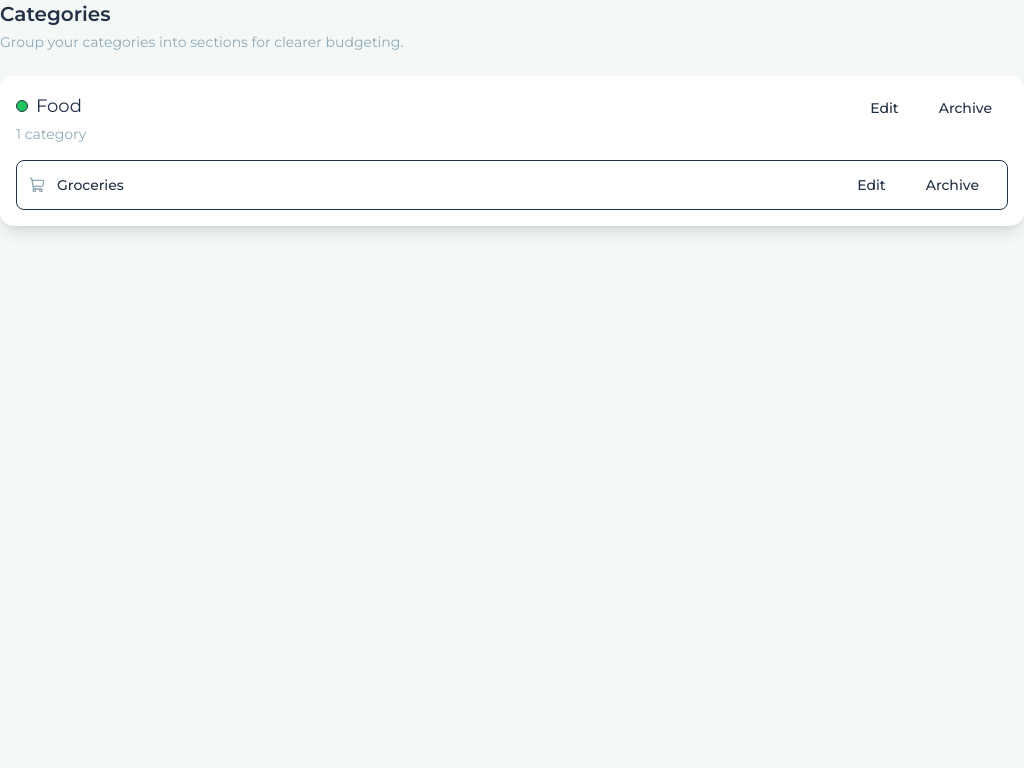
it: CategoriesPage › shows an error when archiving a category fails
Step 1. Click the button with aria-label "Archive category Groceries" → (952, 185), box [910,169,995,201]
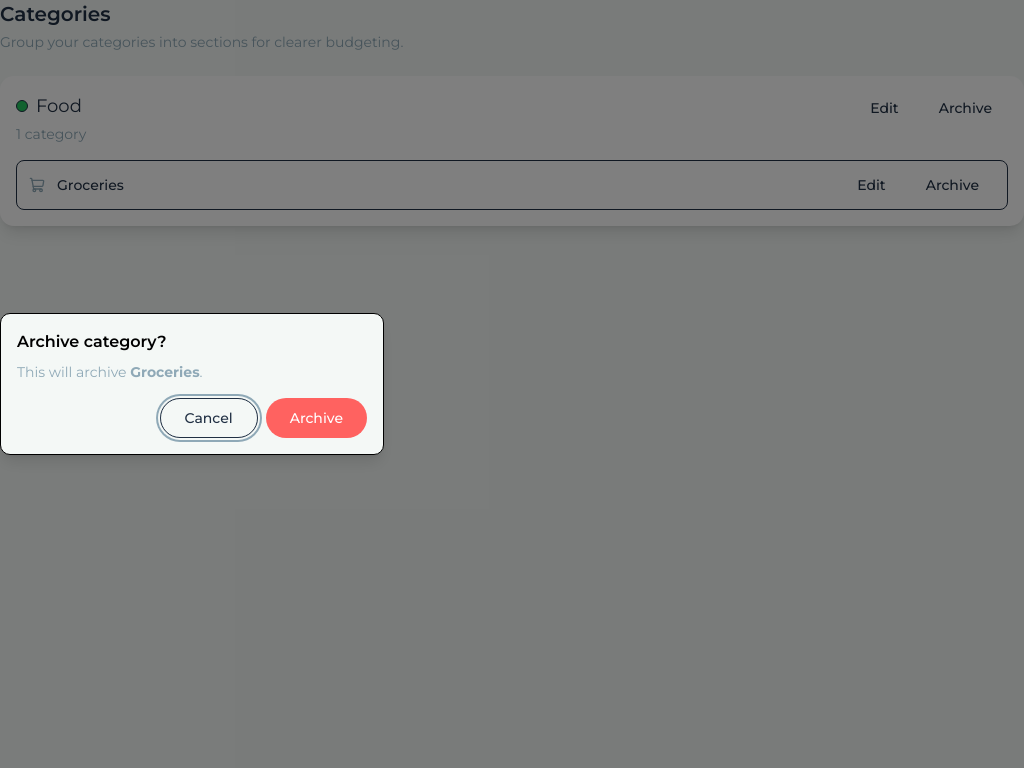
Step 2. Click the button "Archive" → (316, 418), box [266,398,367,438]
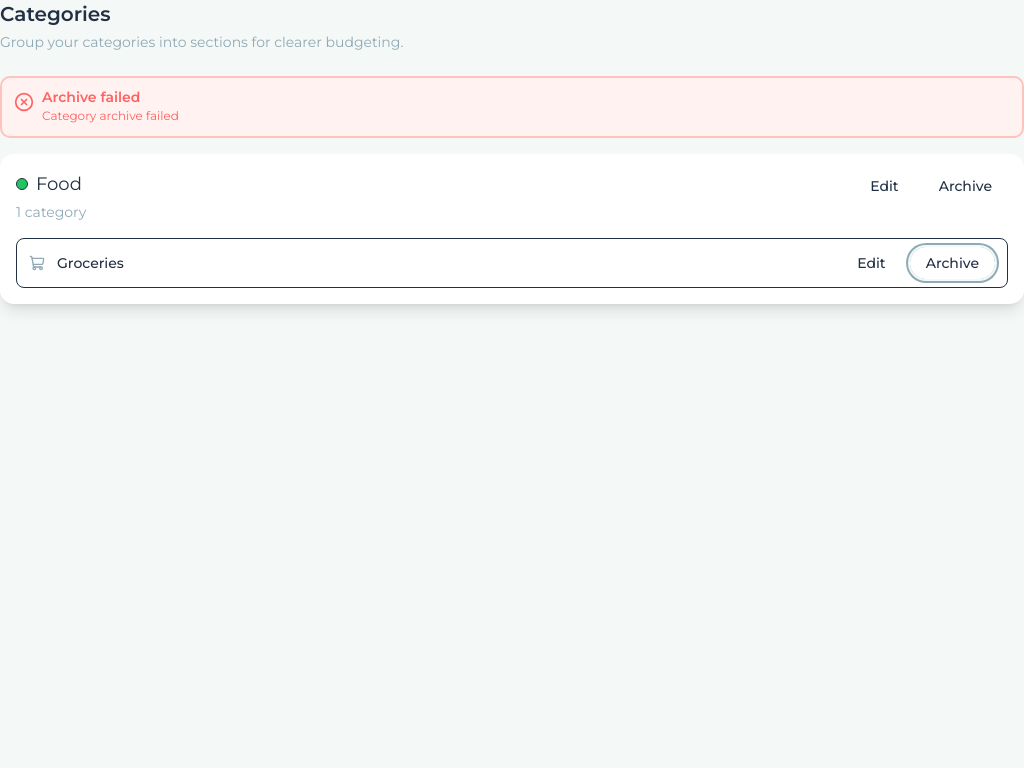
Check: the text "Category archive failed" is shown, box [42,108,179,123]
